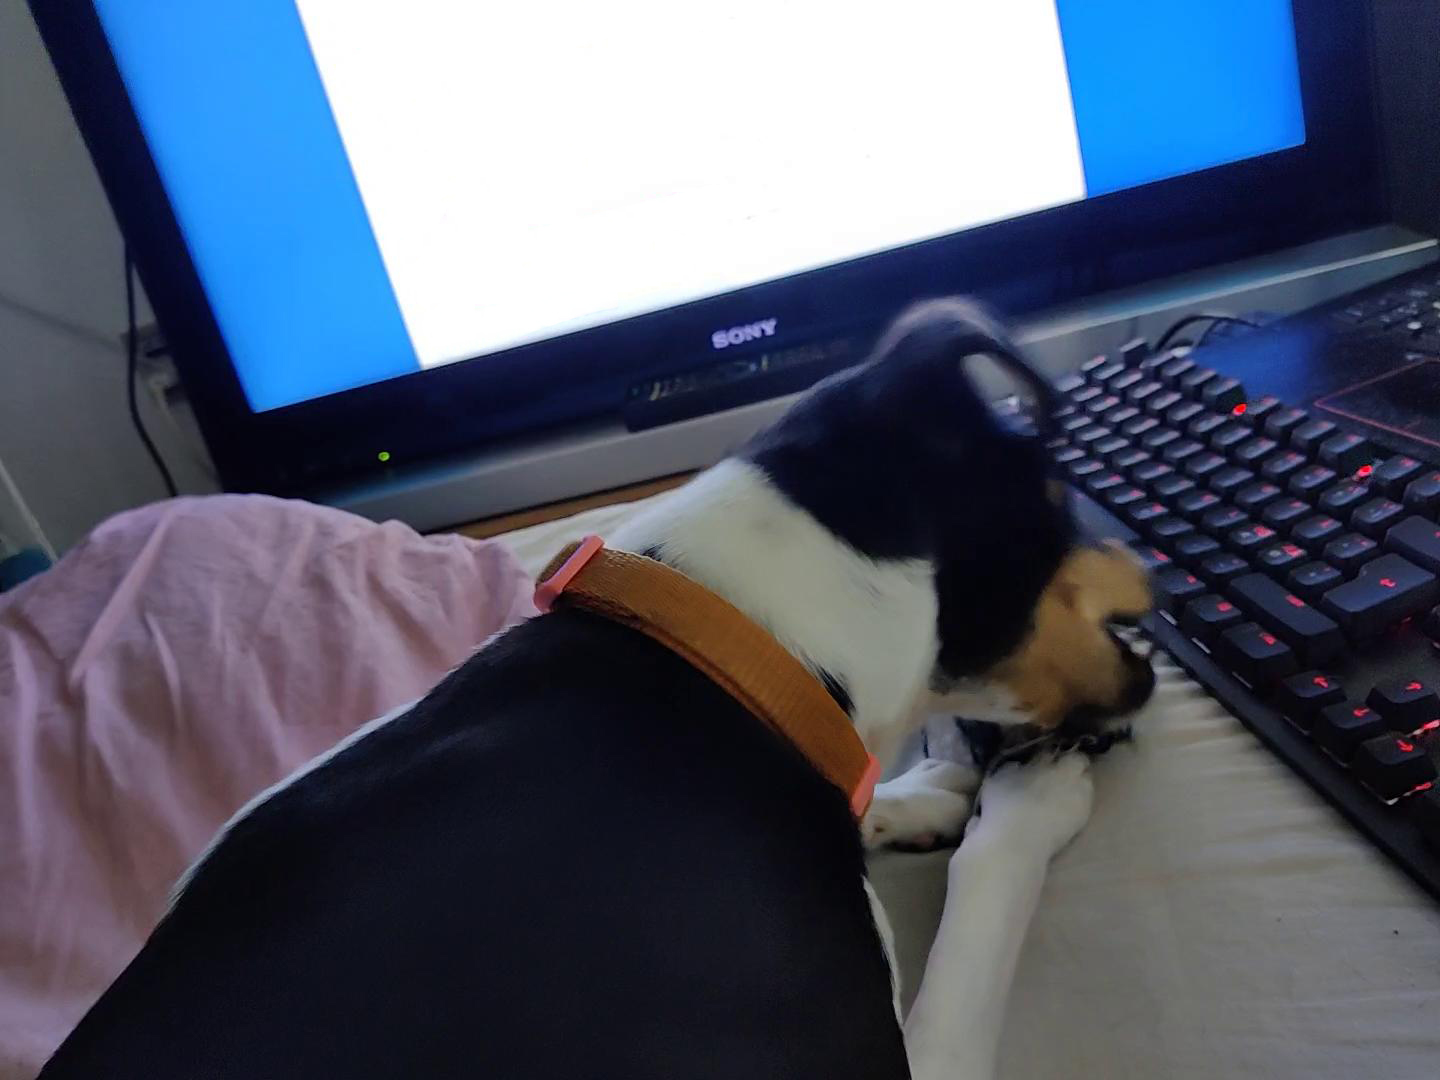Dog: (29, 288, 1164, 1079)
